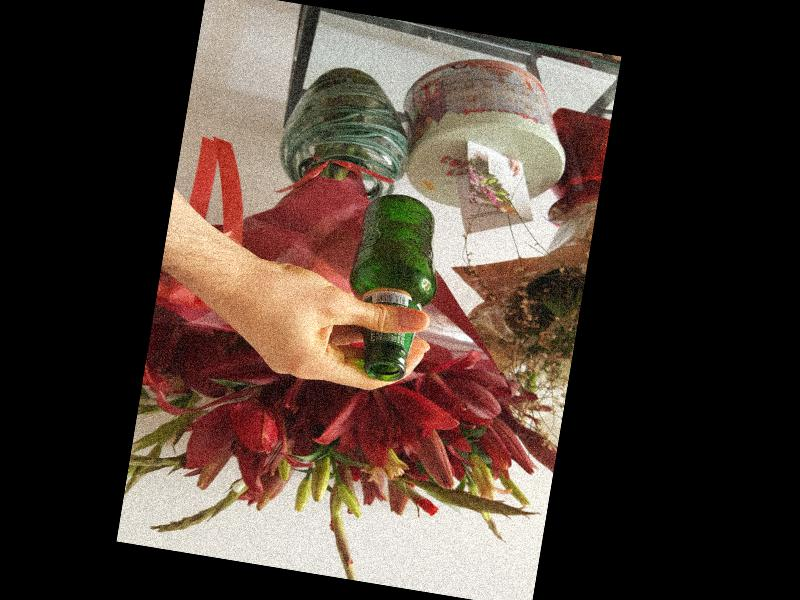Beer: (337, 188, 450, 385)
